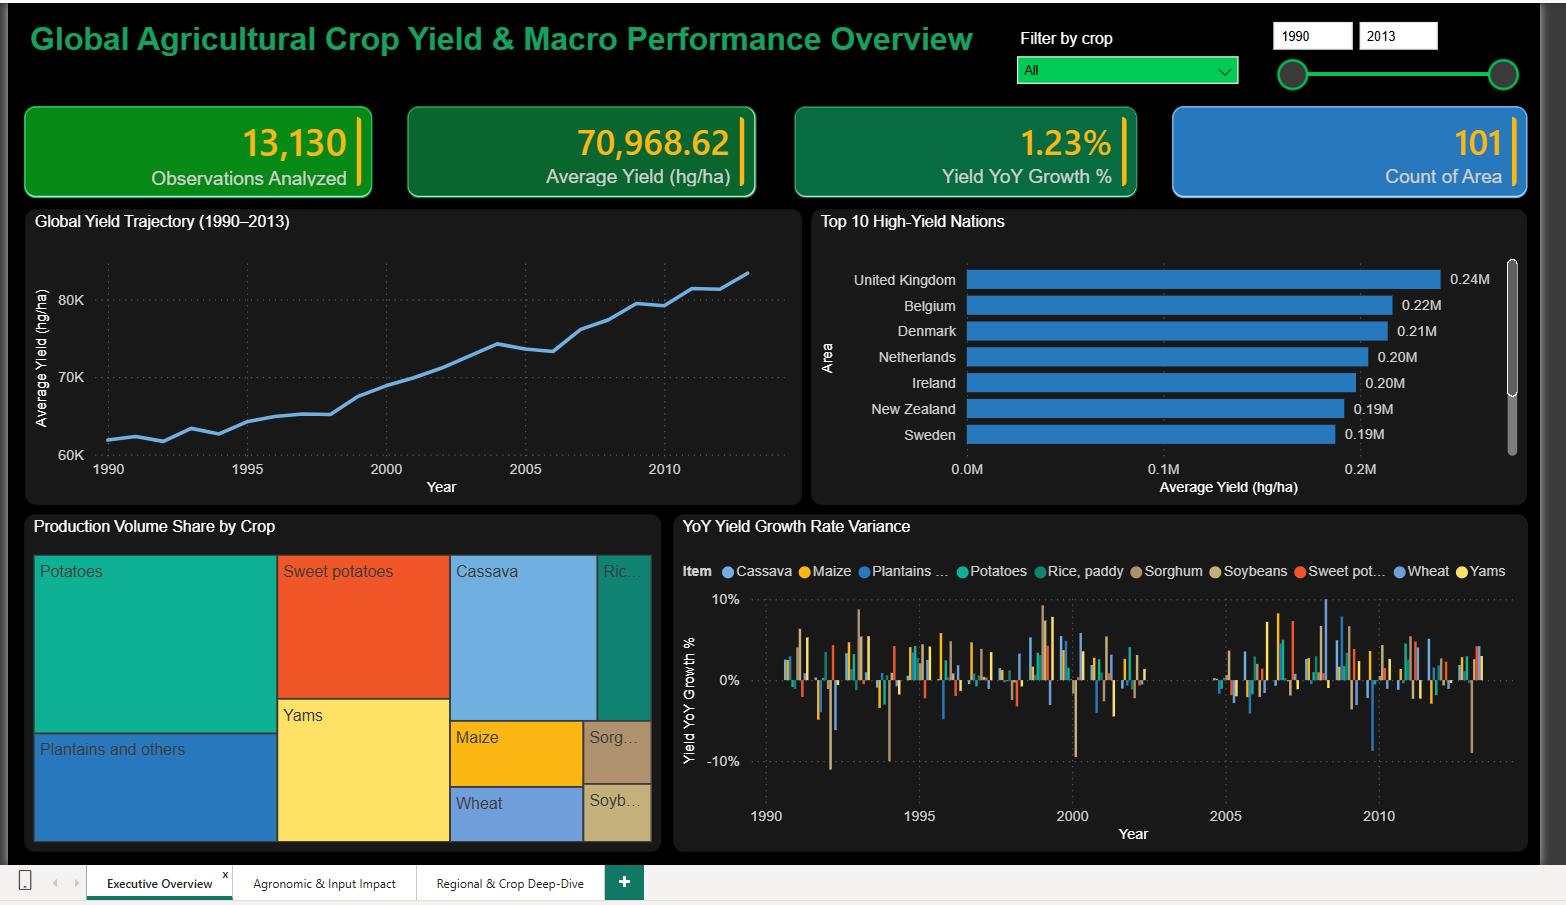

The page's visual inventory and layout, read from the dashboard file:
{"tool":"powerbi","page":{"name":"Executive Overview","canvas":[1280,720],"ordinal":0},"visuals":[{"type":"textbox","box":[13.3,9.8,801.6,47.9],"z":0},{"type":"slicer","fields":{"Values":["Dim_Crop.Item"]},"box":[832.8,17.3,205,63.3],"z":1125},{"type":"slicer","fields":{"Values":["Dim_Date.Year"]},"box":[1044.1,6,225.5,75.2],"z":1250},{"type":"lineChart","title":"Global Yield Trajectory (1990–2013)","fields":{"Category":["Dim_Date.Year"],"Y":["_Measures.Average Yield (hg/ha)"]},"box":[13.4,171.2,650.7,248.9],"z":3000},{"type":"clusteredBarChart","title":"Top 10 High-Yield Nations","fields":{"Y":["_Measures.Average Yield (hg/ha)"],"Category":["Dim_Location.Area"]},"box":[669.9,171.2,599.7,248.9],"z":4000},{"type":"treemap","title":"Production Volume Share by Crop","fields":{"Group":["Dim_Crop.Item"],"Values":["_Measures.Average Yield (hg/ha)"]},"box":[12.9,426.1,533.9,283.8],"z":5000},{"type":"clusteredColumnChart","title":"YoY Yield Growth Rate Variance","fields":{"Series":["Dim_Crop.Item"],"Category":["Dim_Date.Year"],"Y":["_Measures.Yield YoY Growth %"]},"box":[554.6,426,715.8,284],"z":6000},{"type":"cardVisual","fields":{"Data":["_Measures.Average Yield (hg/ha)"]},"box":[333.3,86,291.5,76.8],"z":8000},{"type":"cardVisual","fields":{"Data":["_Measures.Yield YoY Growth %"]},"box":[656.5,86,287.3,76.8],"z":9000},{"type":"cardVisual","fields":{"Data":["Count(Dim_Location.Area)"]},"box":[972.3,86,297.4,76.8],"z":10000},{"type":"cardVisual","fields":{"Data":["_Measures.Total Yield (hg/ha)"]},"box":[13.7,85.9,291.4,76.7],"z":10500}]}

Visuals, with their boxes on the page's 1280x720 design canvas (x1, y1, x2, y2). These are canvas units, not pixel positions in the 1566x905 screenshot, which may show the page scaled, cropped or inside an application window:
textbox: left=13, top=10, right=815, bottom=58
slicer - Dim_Crop.Item: left=833, top=17, right=1038, bottom=81
slicer - Dim_Date.Year: left=1044, top=6, right=1270, bottom=81
"Global Yield Trajectory (1990–2013)" lineChart: left=13, top=171, right=664, bottom=420
"Top 10 High-Yield Nations" clusteredBarChart: left=670, top=171, right=1270, bottom=420
"Production Volume Share by Crop" treemap: left=13, top=426, right=547, bottom=710
"YoY Yield Growth Rate Variance" clusteredColumnChart: left=555, top=426, right=1270, bottom=710
cardVisual - _Measures.Average Yield (hg/ha): left=333, top=86, right=625, bottom=163
cardVisual - _Measures.Yield YoY Growth %: left=656, top=86, right=944, bottom=163
cardVisual - Count(Dim_Location.Area): left=972, top=86, right=1270, bottom=163
cardVisual - _Measures.Total Yield (hg/ha): left=14, top=86, right=305, bottom=163
